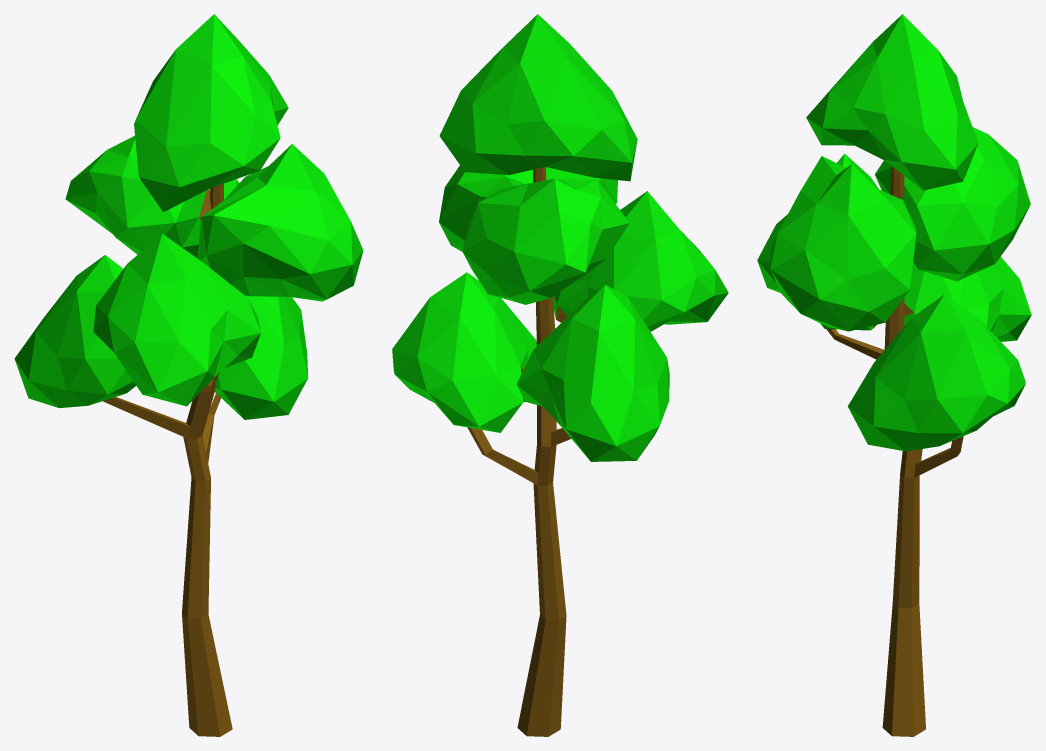
The model's file is tree2.fbx.
The picture shows the model from 3 angles, left to right: view 1: azimuth 30°, elevation 25°; view 2: azimuth 150°, elevation 25°; view 3: azimuth 270°, elevation 25°; orthographic projection.
Visible parts, largest first — view 1: Tree_Type4_04_mesh; view 2: Tree_Type4_04_mesh; view 3: Tree_Type4_04_mesh.
Part boxes in pixels (box(x1,y1,x2,y2)): Tree_Type4_04_mesh: box(14, 14, 363, 736); Tree_Type4_04_mesh: box(392, 14, 728, 736); Tree_Type4_04_mesh: box(757, 14, 1031, 736).
Bounding box in the file's own units: 249 × 635 × 221.
